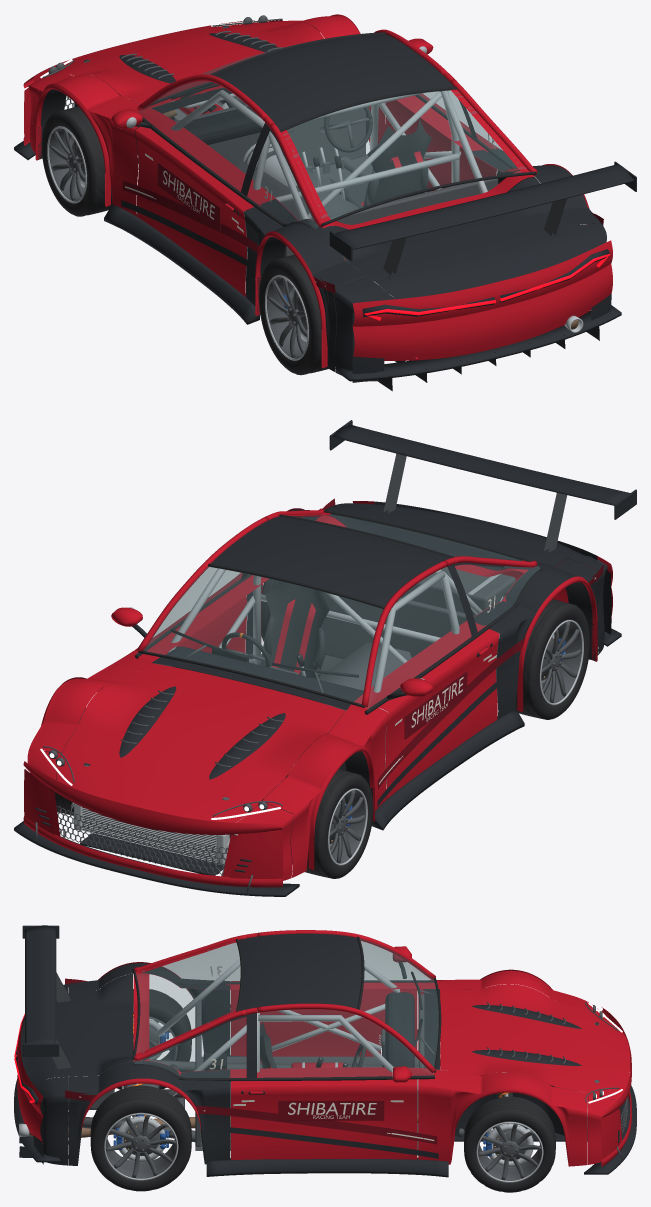
Rendered from SHIBATA31.Detail.fbx.
3 views of the same model, one above another, from view 1: azimuth 30°, elevation 25°; view 2: azimuth 150°, elevation 25°; view 3: azimuth 270°, elevation 25° (orthographic). The views are drawn at different scales.
Parts seen in each view (by area): view 1: Surface Candy scarlet, Surface Laminated smoke glass, Surface Graphite composite, Surface Graphite composite.005, Surface Graphite composite.002, Surface Candy scarlet.001, Surface Gunmetal anodised.005, Surface Machined aluminium.032, Surface EPDM black, Surface Candy scarlet.002, Surface Aramid upholstery, Tyre_FL (+15 smaller); view 2: Surface Candy scarlet, Surface Laminated smoke glass, Surface Candy scarlet.001, Surface Graphite composite, Surface Graphite composite.005, Surface Graphite composite.002, Surface Gunmetal anodised.005, Surface EPDM black, Surface Machined aluminium.032, Surface Candy scarlet.002, Surface Aramid upholstery, Tyre_RL (+15 smaller); view 3: Surface Candy scarlet, Surface Laminated smoke glass, Surface Graphite composite, Surface Candy scarlet.001, Surface Graphite composite.005, Surface Graphite composite.002, Tyre_RR, Surface Oxblood pearl.001, Surface Candy scarlet.002, Tyre_FR, Surface Machined aluminium.032, Surface Gunmetal anodised.005 (+15 smaller).
Part boxes in pixels (<box>): Surface Candy scarlet: <box>23,14,612,368</box>; Surface Laminated smoke glass: <box>137,44,539,228</box>; Surface Graphite composite: <box>151,34,611,382</box>; Surface Graphite composite.005: <box>14,141,636,391</box>; Surface Graphite composite.002: <box>324,177,577,298</box>; Surface Candy scarlet.001: <box>59,22,324,107</box>; Surface Gunmetal anodised.005: <box>131,100,498,293</box>; Surface Machined aluminium.032: <box>171,90,487,259</box>; Surface EPDM black: <box>37,25,542,314</box>; Surface Candy scarlet.002: <box>111,29,537,360</box>; Surface Aramid upholstery: <box>329,118,431,208</box>; Tyre_FL: <box>41,106,112,216</box>; Surface Candy scarlet: <box>23,501,612,887</box>; Surface Laminated smoke glass: <box>136,514,540,709</box>; Surface Candy scarlet.001: <box>56,663,345,822</box>; Surface Graphite composite: <box>152,501,611,719</box>; Surface Graphite composite.005: <box>14,420,636,896</box>; Surface Graphite composite.002: <box>328,505,577,570</box>; Surface Gunmetal anodised.005: <box>72,591,498,816</box>; Surface EPDM black: <box>99,510,595,820</box>; Surface Machined aluminium.032: <box>168,568,499,763</box>; Surface Candy scarlet.002: <box>111,508,537,707</box>; Surface Aramid upholstery: <box>258,580,329,678</box>; Tyre_RL: <box>497,599,589,719</box>; Surface Candy scarlet: <box>17,940,631,1166</box>; Surface Laminated smoke glass: <box>135,939,438,1077</box>; Surface Graphite composite: <box>22,933,439,1165</box>; Surface Candy scarlet.001: <box>440,984,629,1100</box>; Surface Graphite composite.005: <box>14,925,636,1177</box>; Surface Graphite composite.002: <box>20,973,132,1081</box>; Tyre_RR: <box>90,1085,191,1191</box>; Surface Oxblood pearl.001: <box>65,978,437,1144</box>; Surface Candy scarlet.002: <box>134,930,435,1093</box>; Tyre_FR: <box>464,1096,555,1192</box>; Surface Machined aluminium.032: <box>156,959,400,1096</box>; Surface Gunmetal anodised.005: <box>68,994,587,1150</box>.
Bounding box in the file's own units: 217 × 132 × 435.
